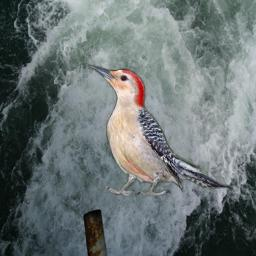Woodpecker: (86, 62, 233, 197)
